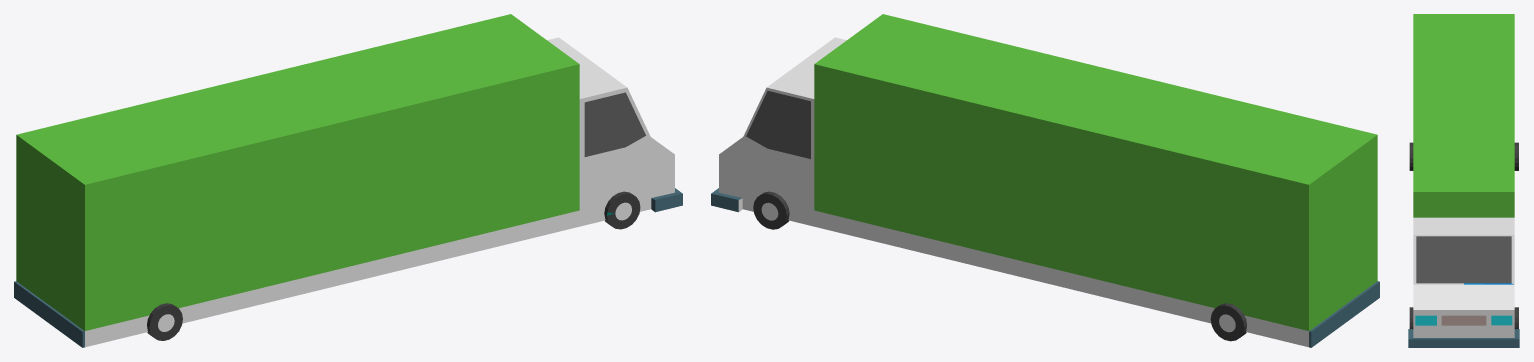
Rendered from Kamionce4x1Green.fbx.
The picture shows the model from 3 angles, left to right: view 1: azimuth 30°, elevation 25°; view 2: azimuth 150°, elevation 25°; view 3: azimuth 270°, elevation 25°; orthographic projection. The views are drawn at different scales.
Visible parts, largest first — view 1: Car_08_4; view 2: Car_08_4; view 3: Car_08_4.
Boxes of the visible parts, x1,y1,x2,y2 form: Car_08_4: [14, 14, 682, 347]; Car_08_4: [711, 14, 1379, 347]; Car_08_4: [1408, 14, 1519, 347].
Bounding box in the file's own units: 3.99 × 1.1 × 0.8755.
Materials: 1 (1 with a texture image).
